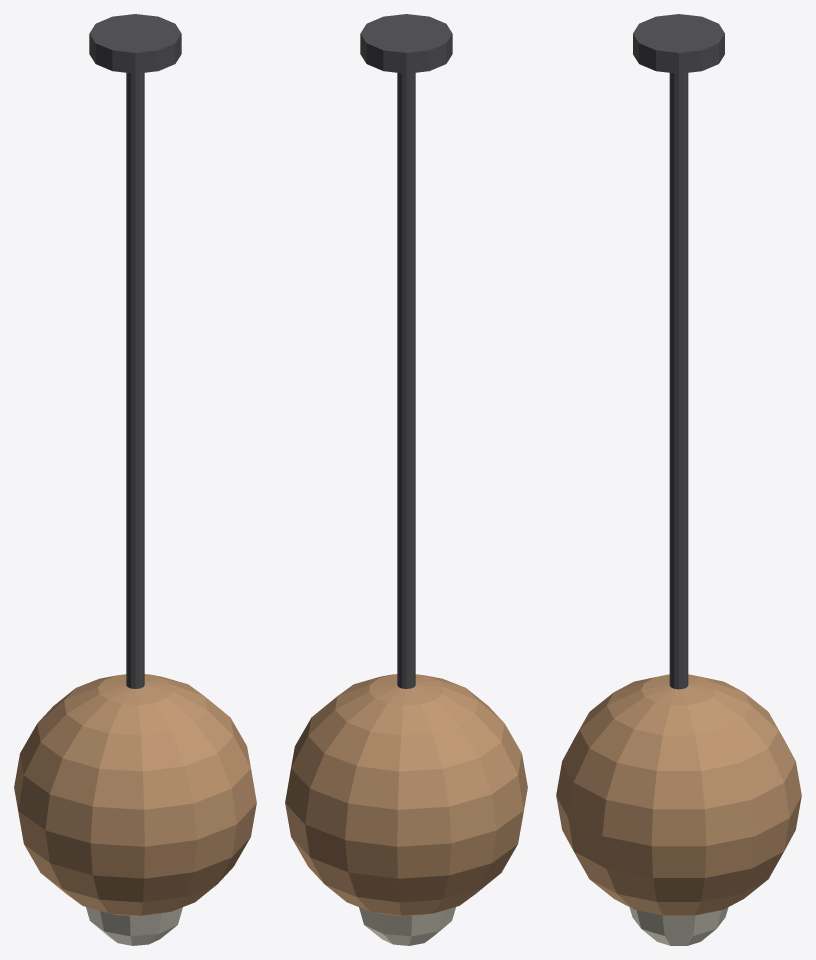
File: ilu_pendente_coz1.glb
3 views of the same model, side by side, from view 1: azimuth 30°, elevation 25°; view 2: azimuth 150°, elevation 25°; view 3: azimuth 270°, elevation 25° (orthographic).
Parts seen in each view (by area): view 1: ILU_Pendente_Coz1_v01; view 2: ILU_Pendente_Coz1_v01; view 3: ILU_Pendente_Coz1_v01.
Boxes of the visible parts, left/top/right/bottom form: ILU_Pendente_Coz1_v01: left=14, top=14, right=256, bottom=945; ILU_Pendente_Coz1_v01: left=285, top=14, right=527, bottom=945; ILU_Pendente_Coz1_v01: left=556, top=14, right=801, bottom=945.
Bounding box in the file's own units: 0.312 × 1.31 × 0.32.
